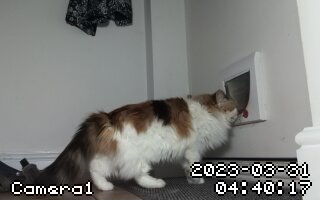clara: (22, 84, 241, 190)
